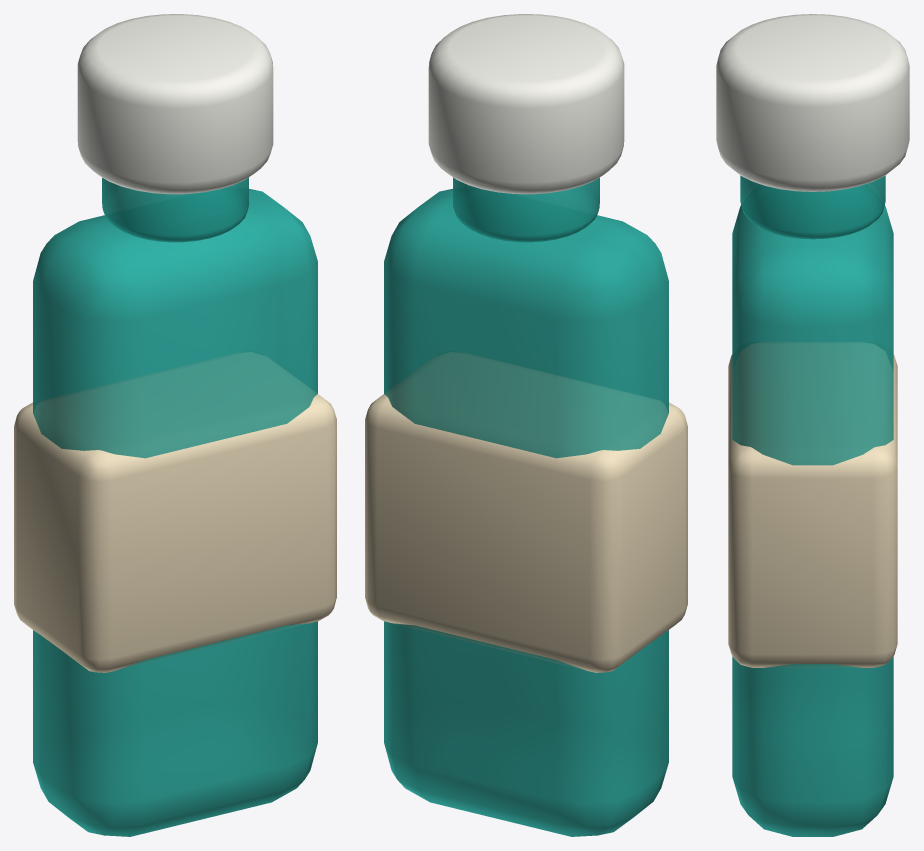
The model's file is mouthwash.glb.
3 views of the same model, side by side, from view 1: azimuth 30°, elevation 25°; view 2: azimuth 150°, elevation 25°; view 3: azimuth 270°, elevation 25° (orthographic).
Visible parts, largest first — view 1: mouthwash; view 2: mouthwash; view 3: mouthwash.
Part boxes in pixels (x1=…): mouthwash: x1=14, y1=14, x2=336, y2=836; mouthwash: x1=365, y1=14, x2=687, y2=836; mouthwash: x1=716, y1=14, x2=909, y2=836.
Bounding box in the file's own units: 0.072 × 0.205 × 0.048.
